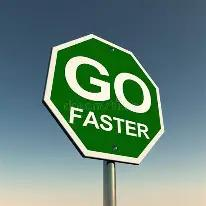Go: (52, 37, 159, 159)
